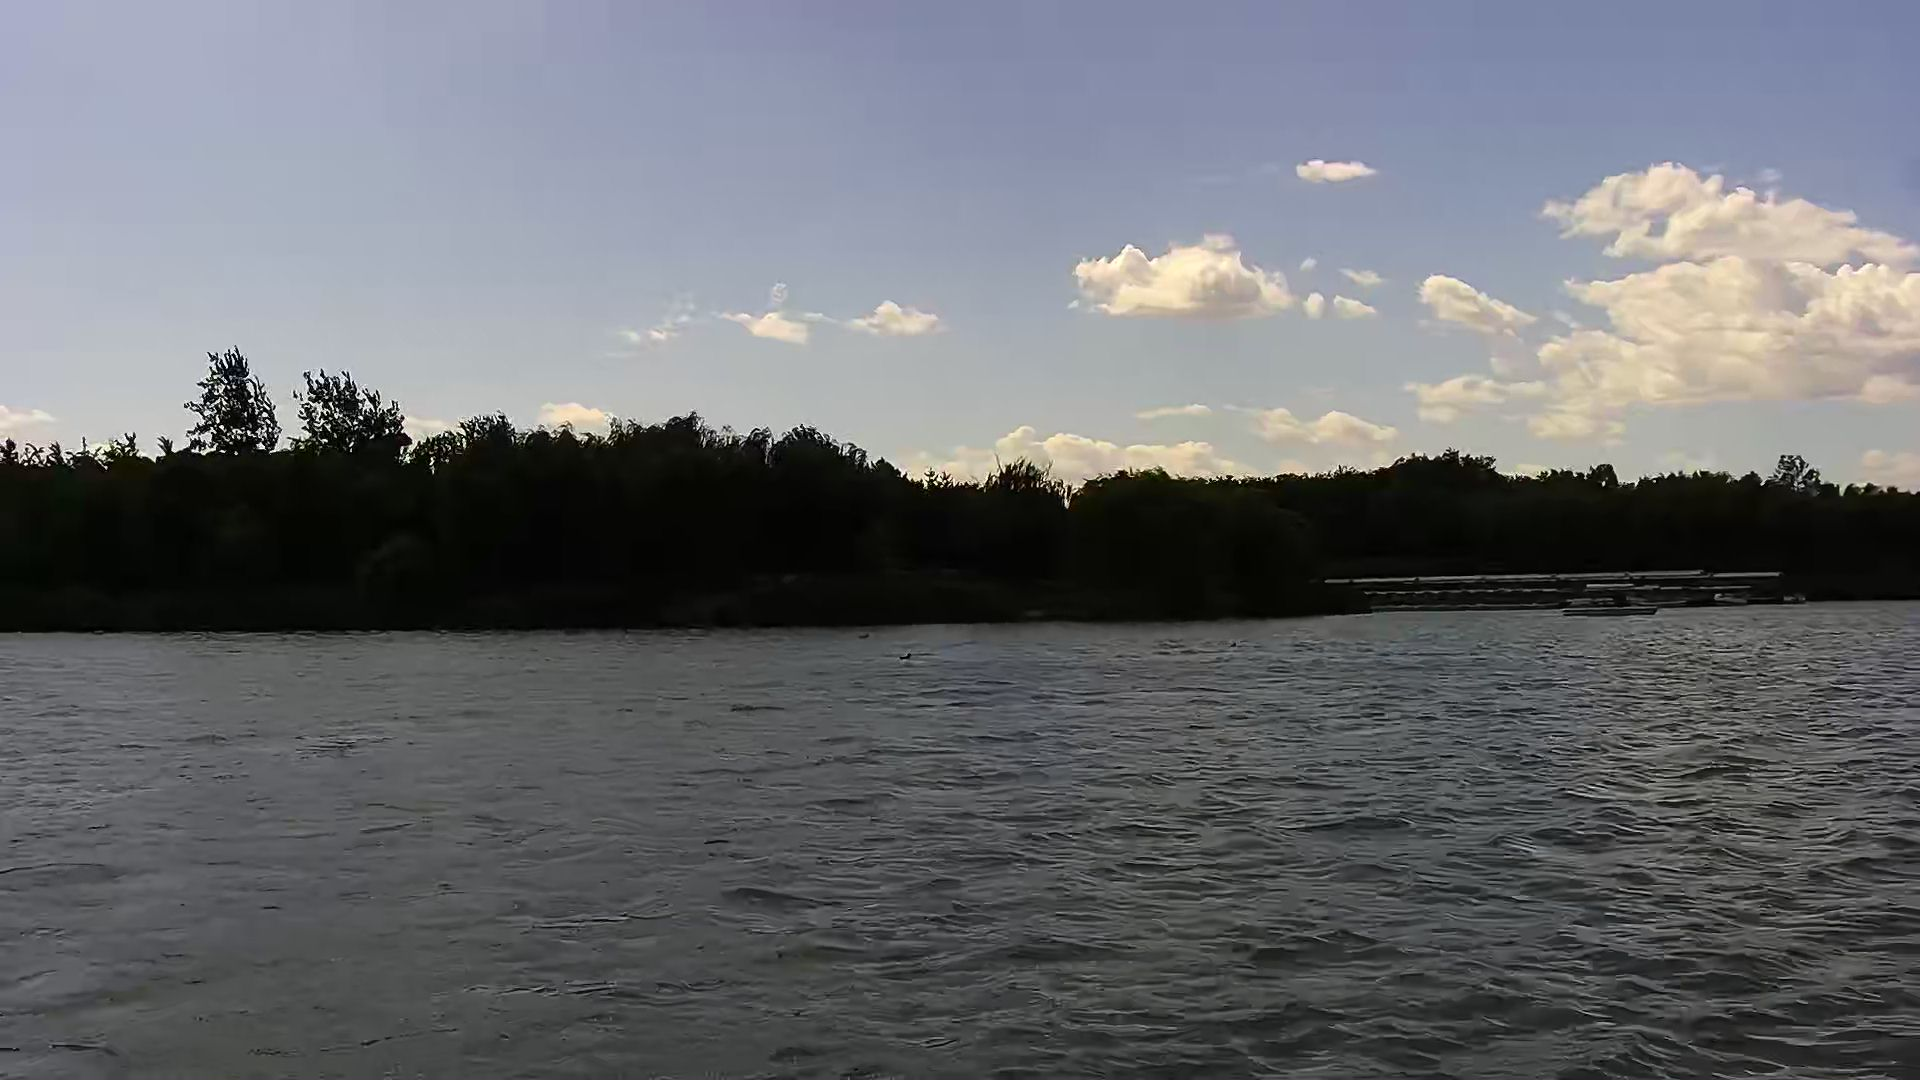boat: (1560, 579, 1671, 616)
harbor: (1319, 568, 1800, 607)
